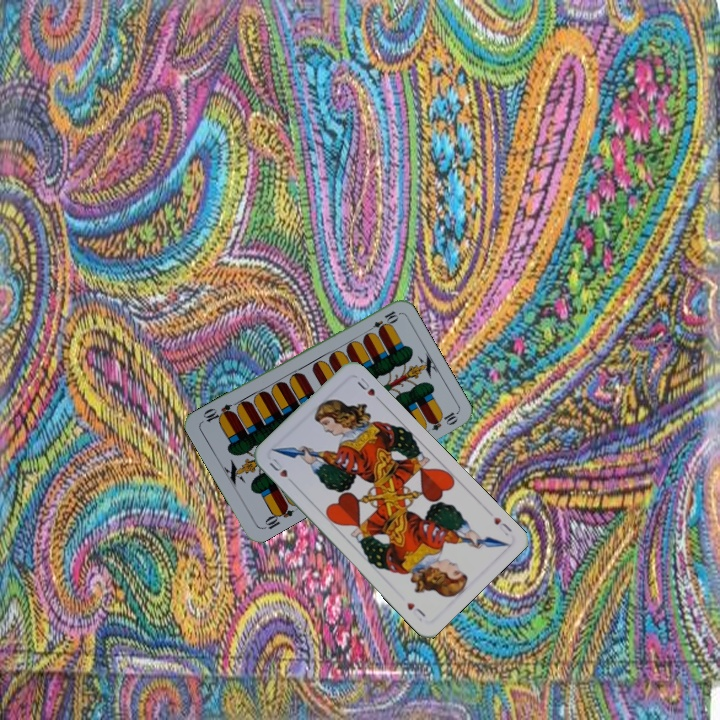E10: (259, 501, 296, 532), (363, 307, 401, 336)
HU: (265, 453, 298, 488), (489, 513, 514, 538)
